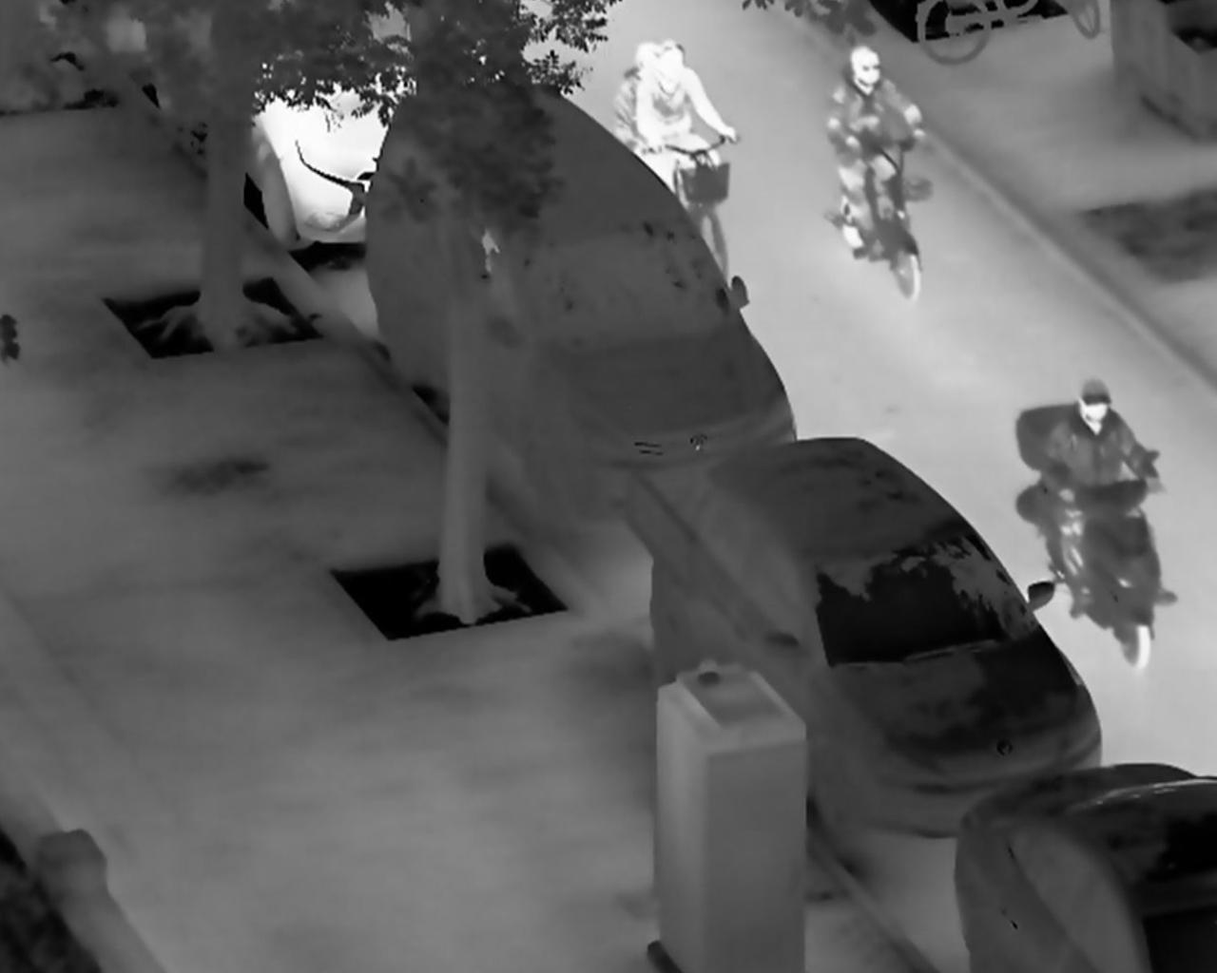person: (1038, 378, 1169, 619), (824, 43, 934, 266), (632, 38, 738, 201)
